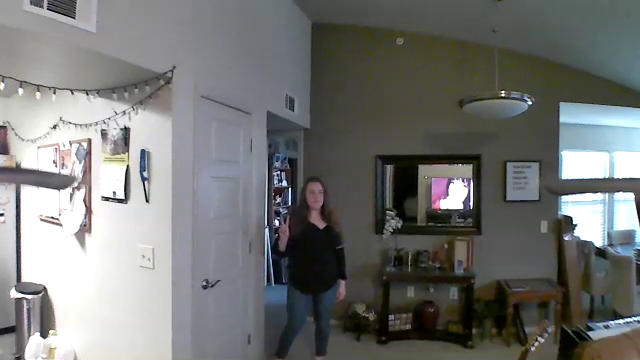peace: (274, 211, 296, 244)
